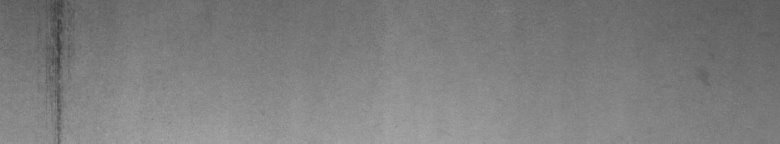hd: (44, 4, 68, 136)
